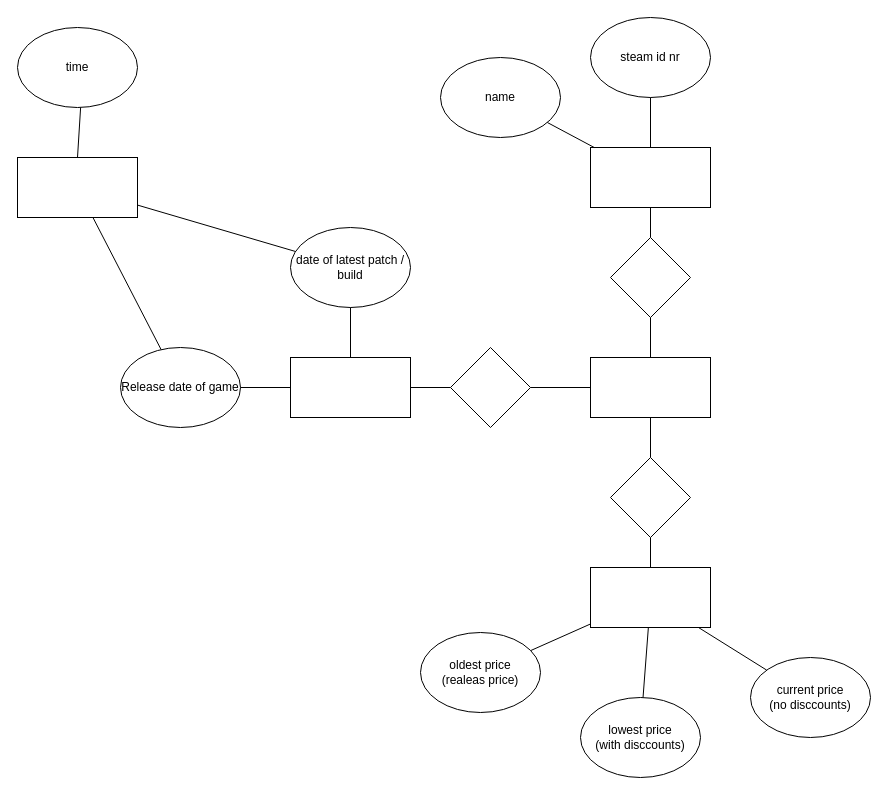
This 888x795 diagram has some shape labels left out. Each missing label, with the centre of its shape:
last updatede: point 350,387
price's: point 650,597
steam game: point 650,387
time since given up the game: point 77,187
